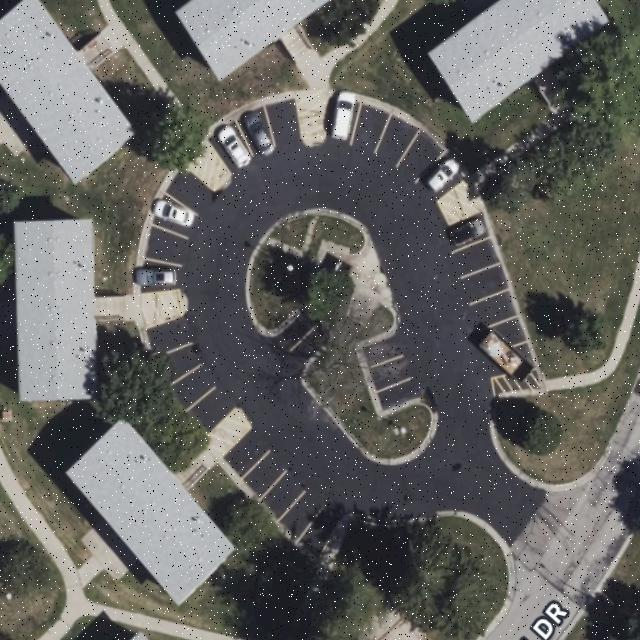Parked: (207, 117, 256, 175), (416, 151, 470, 202), (237, 104, 278, 159), (151, 194, 199, 238), (448, 212, 491, 253), (325, 98, 362, 145), (141, 259, 183, 293)
